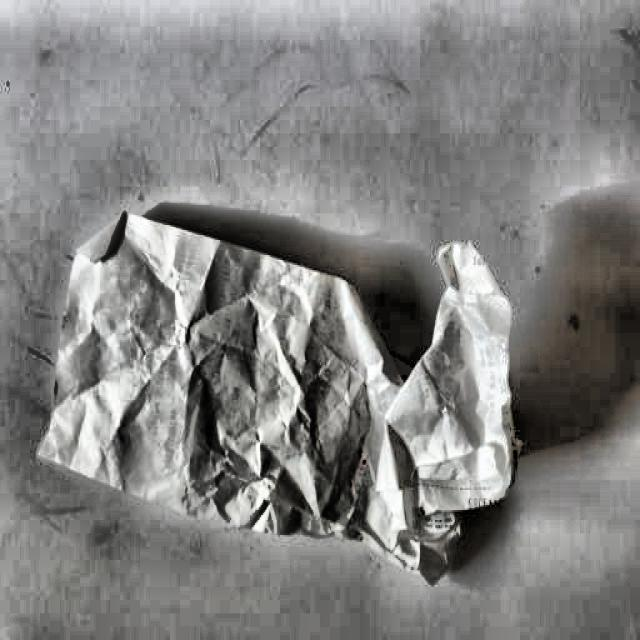paper: (38, 203, 517, 585)
